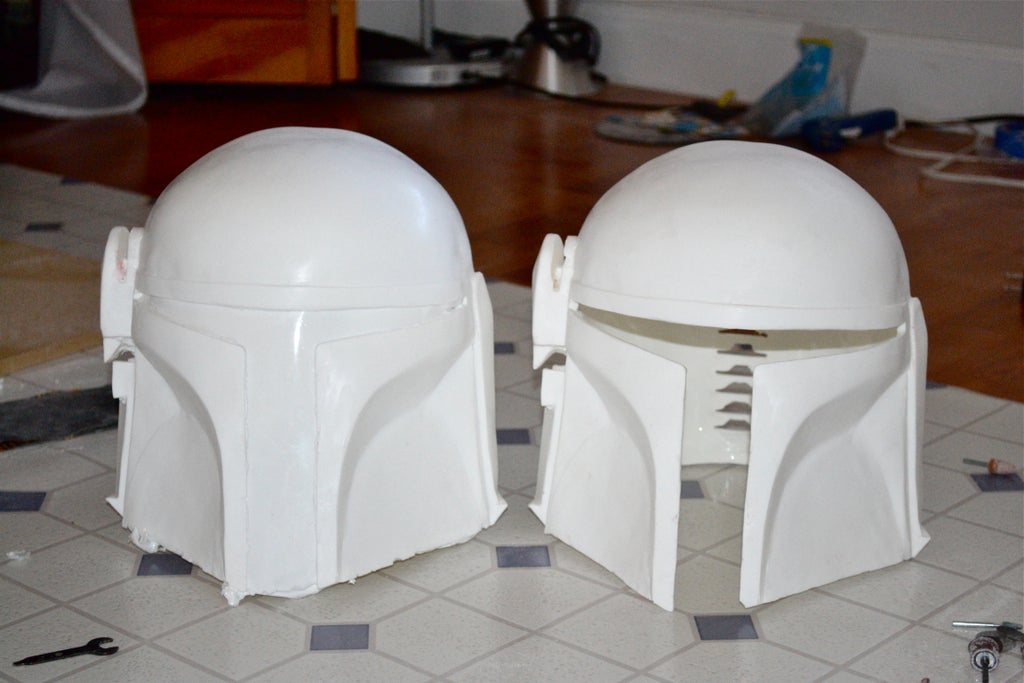Good: (75, 107, 961, 636)
